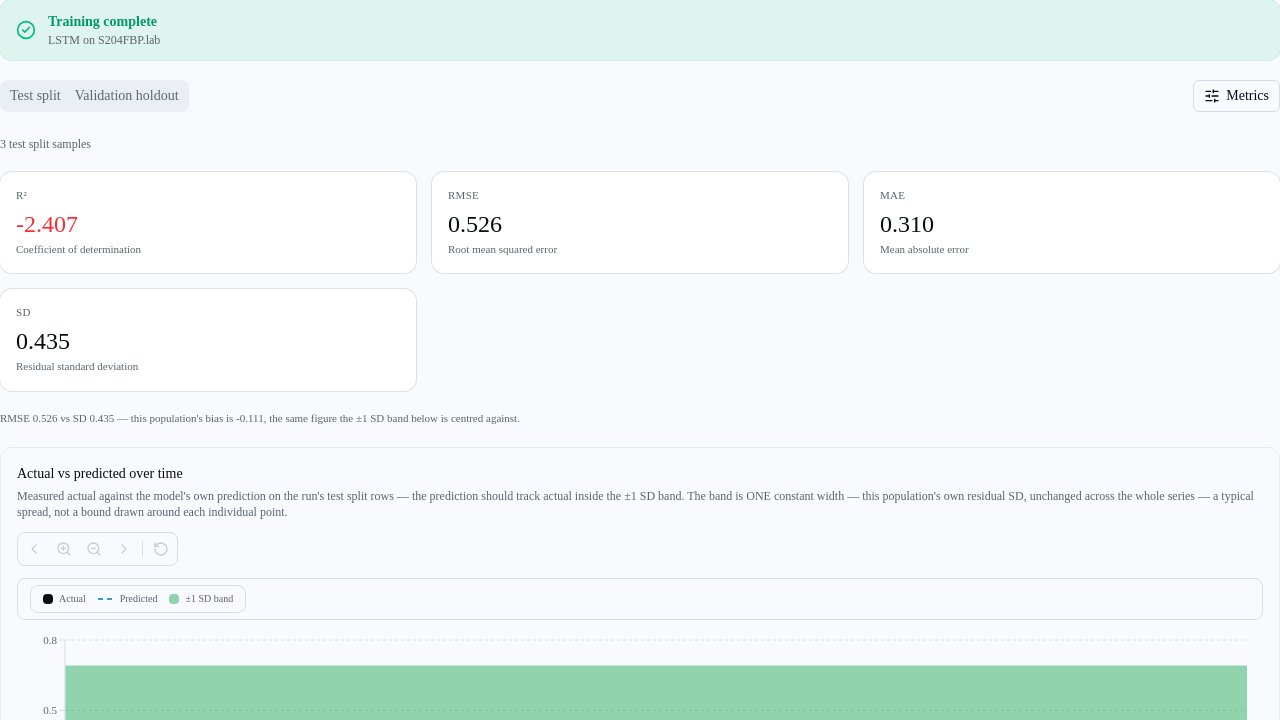
Test case: Phase5Evaluation — tabs for every run (MODEL-FLOW-030) › the holdout tab › a sequence model: states there is no scoring path and offers no button
This screenshot has width=1280, height=720.
Click the tab "Validation holdout": (127, 96) [68,83,186,109]
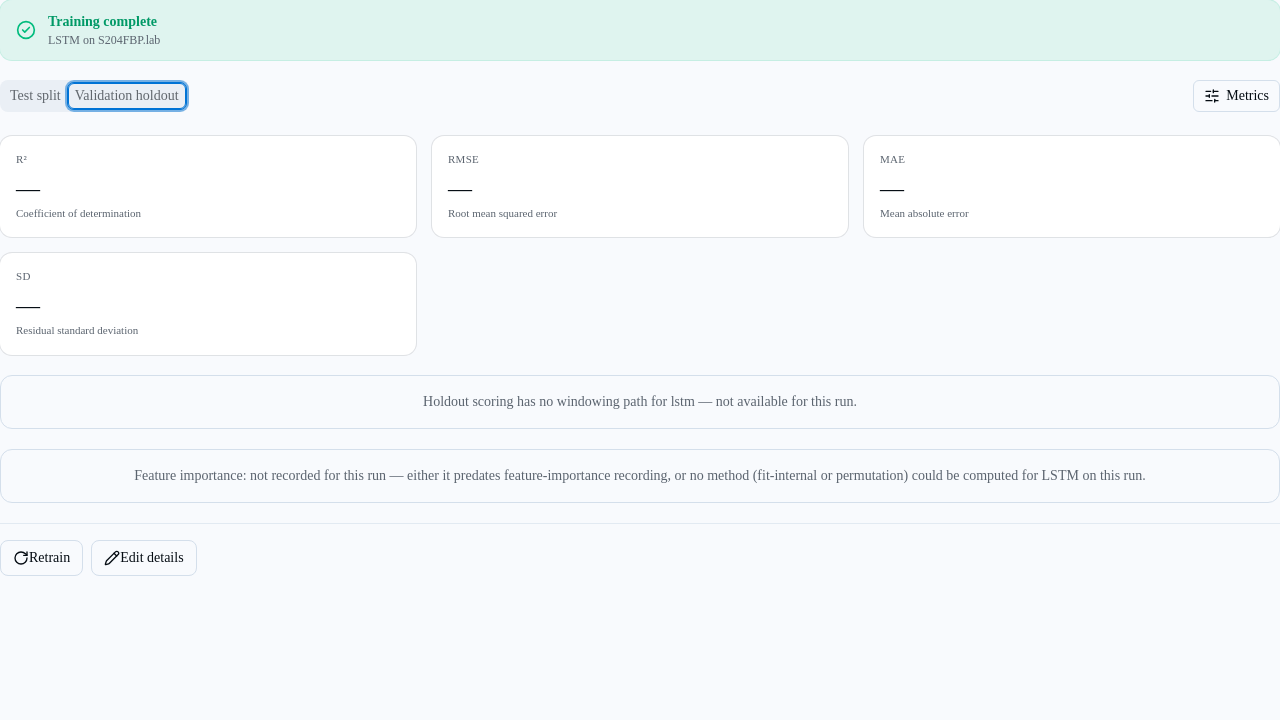
Result: the text "no windowing path for lstm" is shown at [423,394,857,409]
